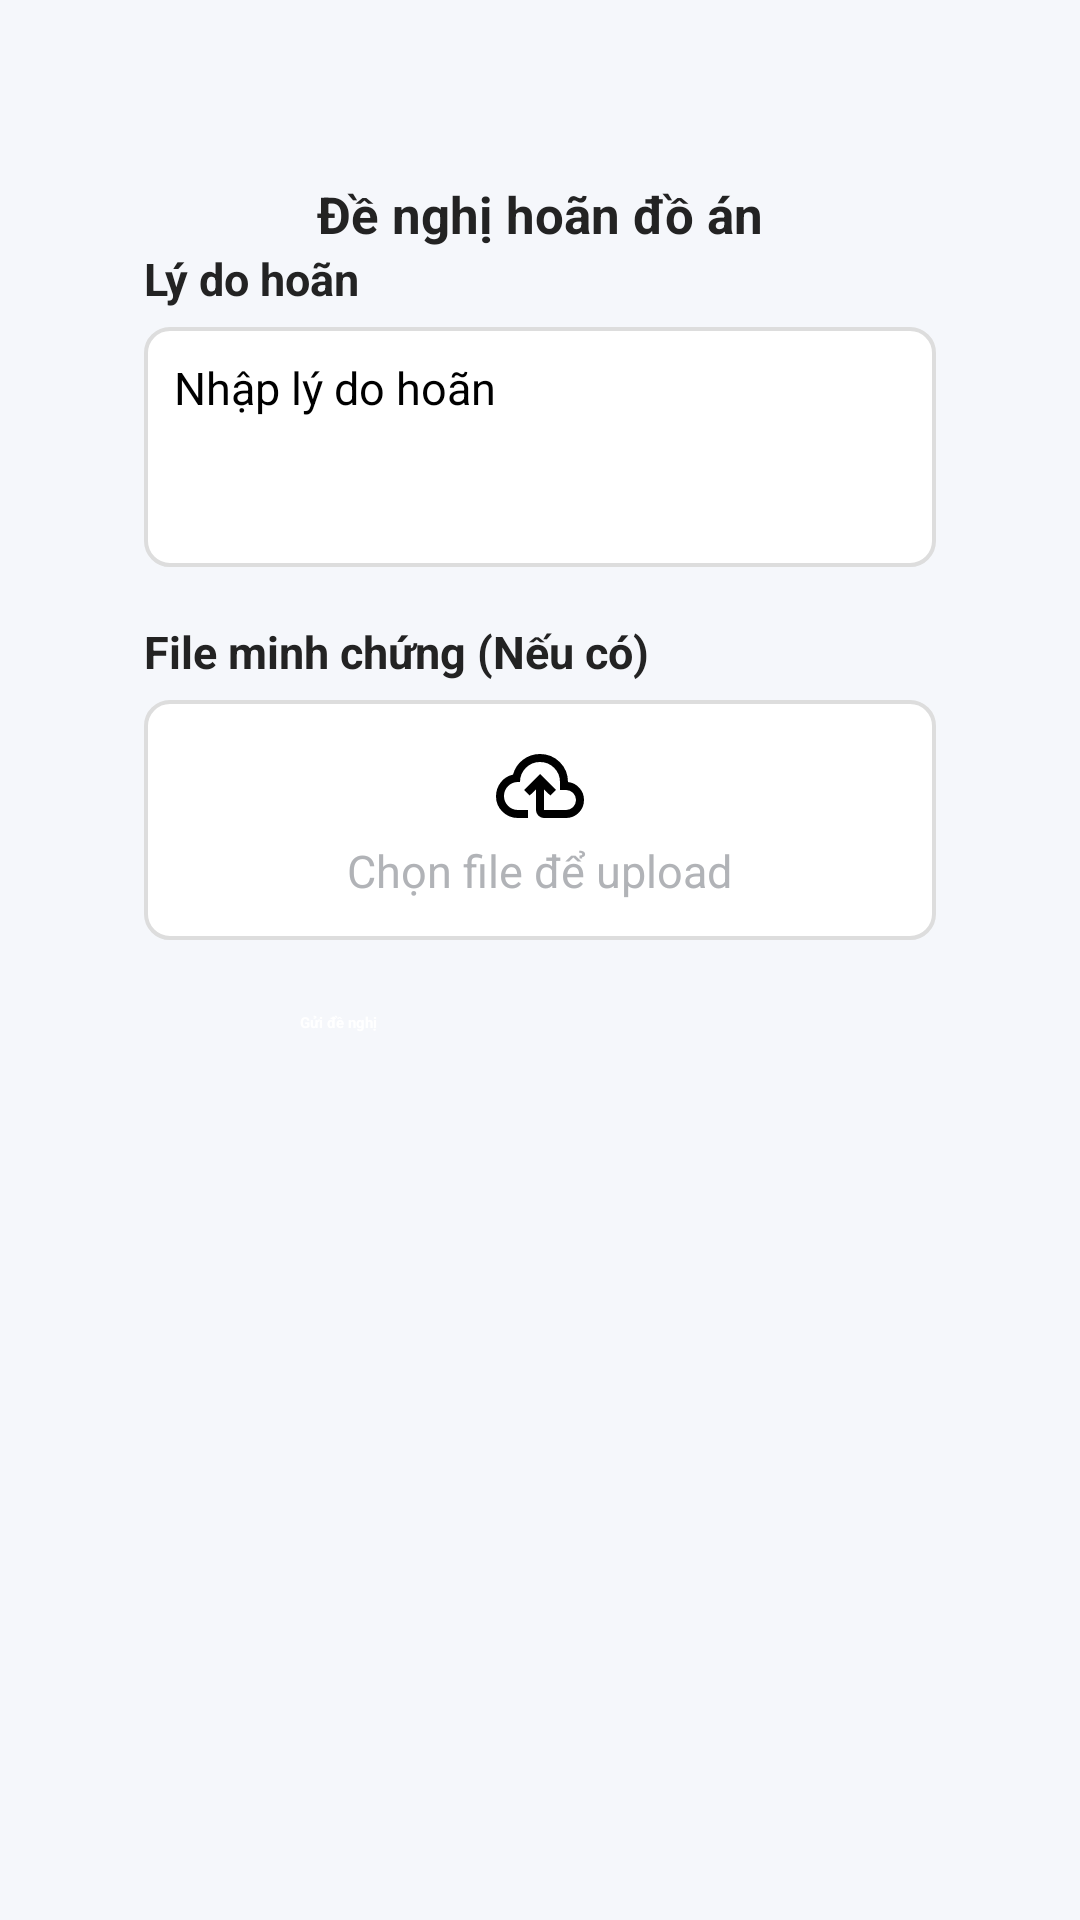

Named icons in this screenshot (1080×1920) and their centers, point (x, y):
cloud upload: point (540, 786)
